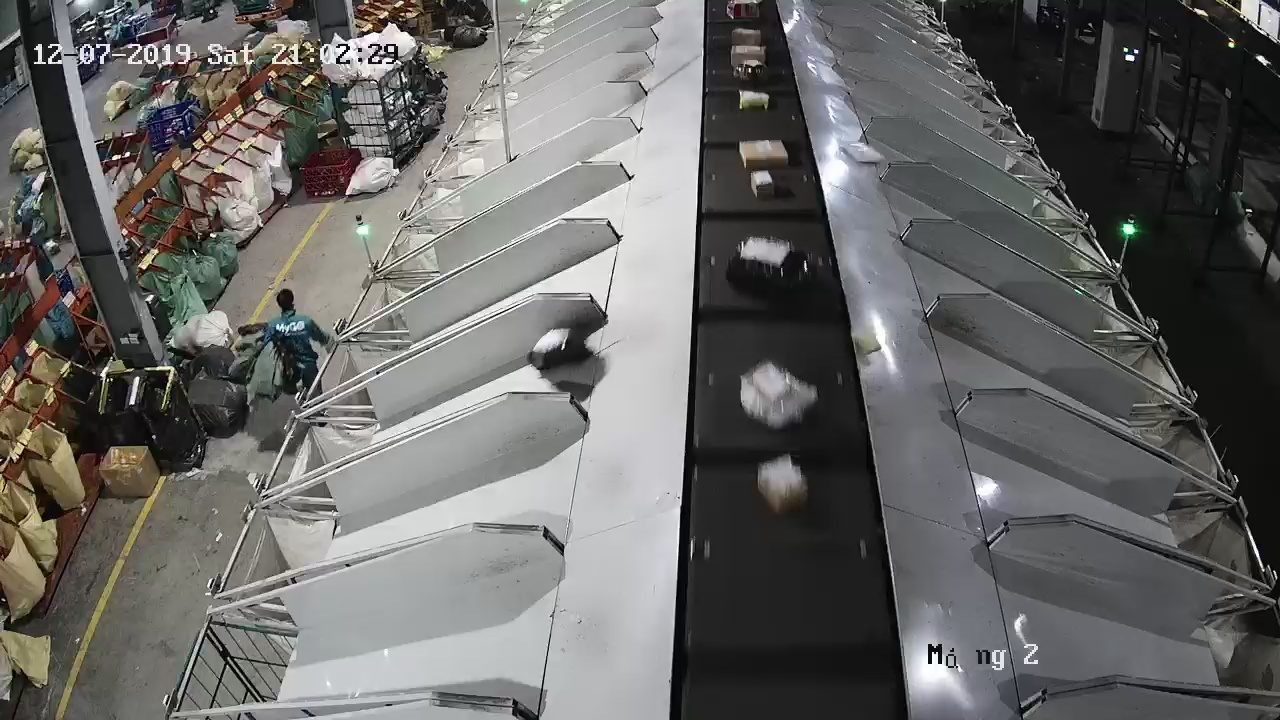parcel: (526, 327, 589, 371), (837, 141, 886, 164), (854, 331, 883, 358)
